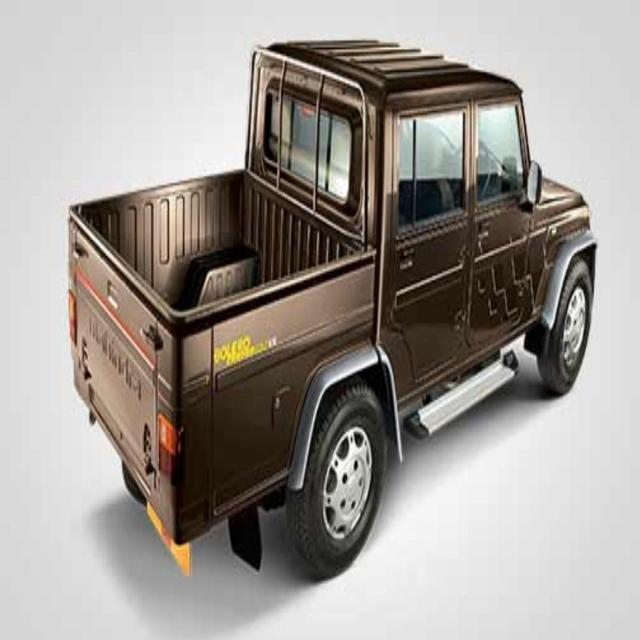light_vehicle: (79, 22, 601, 511)
